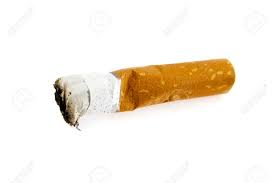cigarette: (50, 54, 237, 131)
